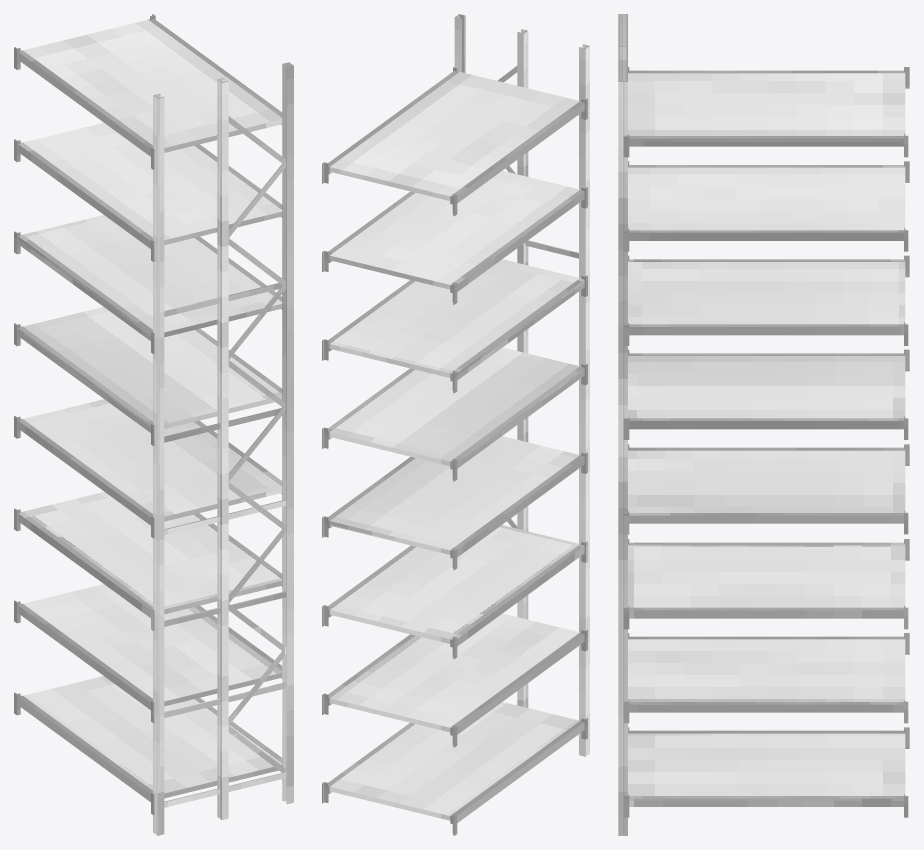
The model's file is StorageRackWideNoBoxes.glb.
3 renders of one model, left to right at view 1: azimuth 30°, elevation 25°; view 2: azimuth 150°, elevation 25°; view 3: azimuth 270°, elevation 25°, orthographic. The views are drawn at different scales.
Parts seen in each view (by area): view 1: StorageRackWideNoBoxes; view 2: StorageRackWideNoBoxes; view 3: StorageRackWideNoBoxes.
Boxes of the visible parts, x1,y1,x2,y2 form: StorageRackWideNoBoxes: (14,14,293,835); StorageRackWideNoBoxes: (322,14,589,835); StorageRackWideNoBoxes: (618,14,909,835).
Bounding box in the file's own units: 1.18 × 6 × 2.1.
Materials: 1 (1 with a texture image).
